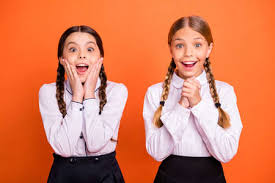person: (167, 16, 213, 78)
